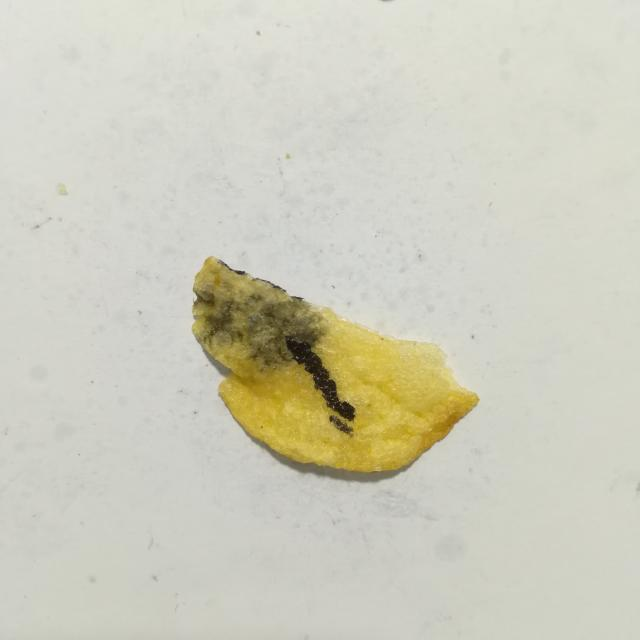chip: (192, 257, 478, 472)
damaged: (286, 337, 355, 421), (330, 416, 352, 434)
semi-damaged: (193, 257, 326, 378)
